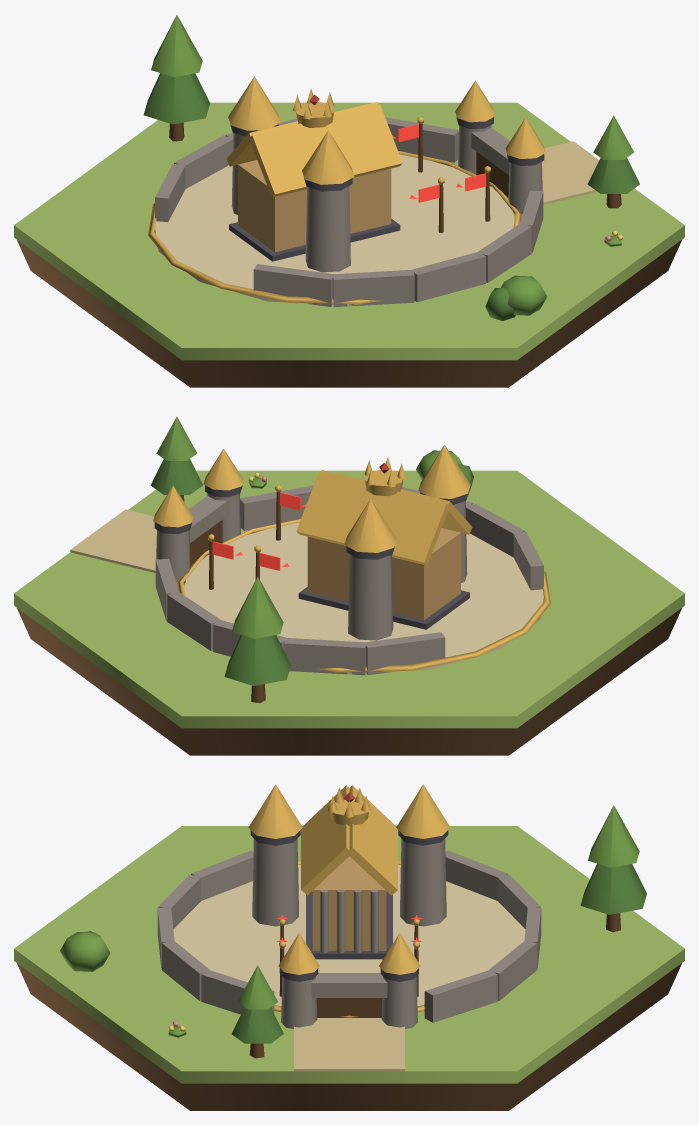
Rendered from tile_base_royal.glb.
3 renders of one model, top to bottom at view 1: azimuth 30°, elevation 25°; view 2: azimuth 150°, elevation 25°; view 3: azimuth 270°, elevation 25°, orthographic.
Parts seen in each view (by area): view 1: ground, plaza, ground_soil, hall_roof_south, hall, wing_tower_s_body, road, wall_s_1, deco_tree_3_crown, wall_s_2, wall_s_0, plaza_ring (+21 smaller); view 2: ground, plaza, ground_soil, hall_roof_north, hall, wing_tower_n_body, road, deco_tree_3_crown, wall_n_3, wall_n_4, plaza_ring, deco_tree_3_crown_b (+19 smaller); view 3: ground, plaza, ground_soil, road, hall, wing_tower_n_body, wing_tower_s_body, hall_roof_south, hall_roof_north, deco_tree_3_crown, wall_n_0, deco_tree_3_crown_b (+26 smaller).
Part boxes in pixels (x1,y1,x2,y2): ground: (14, 102, 684, 360); plaza: (155, 154, 514, 306); ground_soil: (17, 240, 681, 387); hall_roof_south: (249, 104, 402, 197); hall: (238, 160, 391, 252); wing_tower_s_body: (305, 186, 350, 272); road: (490, 141, 599, 204); wall_s_1: (332, 270, 414, 307); deco_tree_3_crown: (143, 73, 209, 124); wall_s_2: (410, 251, 485, 302); wall_s_0: (253, 264, 334, 306); plaza_ring: (148, 151, 521, 304); ground: (14, 470, 684, 728); plaza: (184, 522, 543, 674); ground_soil: (17, 608, 681, 755); hall_roof_north: (296, 472, 449, 565); hall: (307, 528, 460, 620); wing_tower_n_body: (348, 554, 393, 640); road: (70, 509, 208, 572); deco_tree_3_crown: (224, 635, 290, 685); wall_n_3: (284, 638, 365, 675); wall_n_4: (364, 632, 445, 675); plaza_ring: (177, 519, 550, 672); deco_tree_3_crown_b: (232, 576, 283, 638); ground: (14, 826, 684, 1083); plaza: (173, 865, 525, 1005); ground_soil: (17, 963, 681, 1110); road: (294, 1018, 404, 1071); hall: (312, 856, 386, 950); wing_tower_n_body: (400, 838, 446, 926); wing_tower_s_body: (252, 838, 298, 926); hall_roof_south: (301, 785, 352, 895); hall_roof_north: (346, 785, 397, 895); deco_tree_3_crown: (580, 863, 646, 914); wall_n_0: (424, 970, 497, 1022); deco_tree_3_crown_b: (588, 805, 639, 867).
Bounding box in the file's own units: 1.73 × 0.608 × 2.
